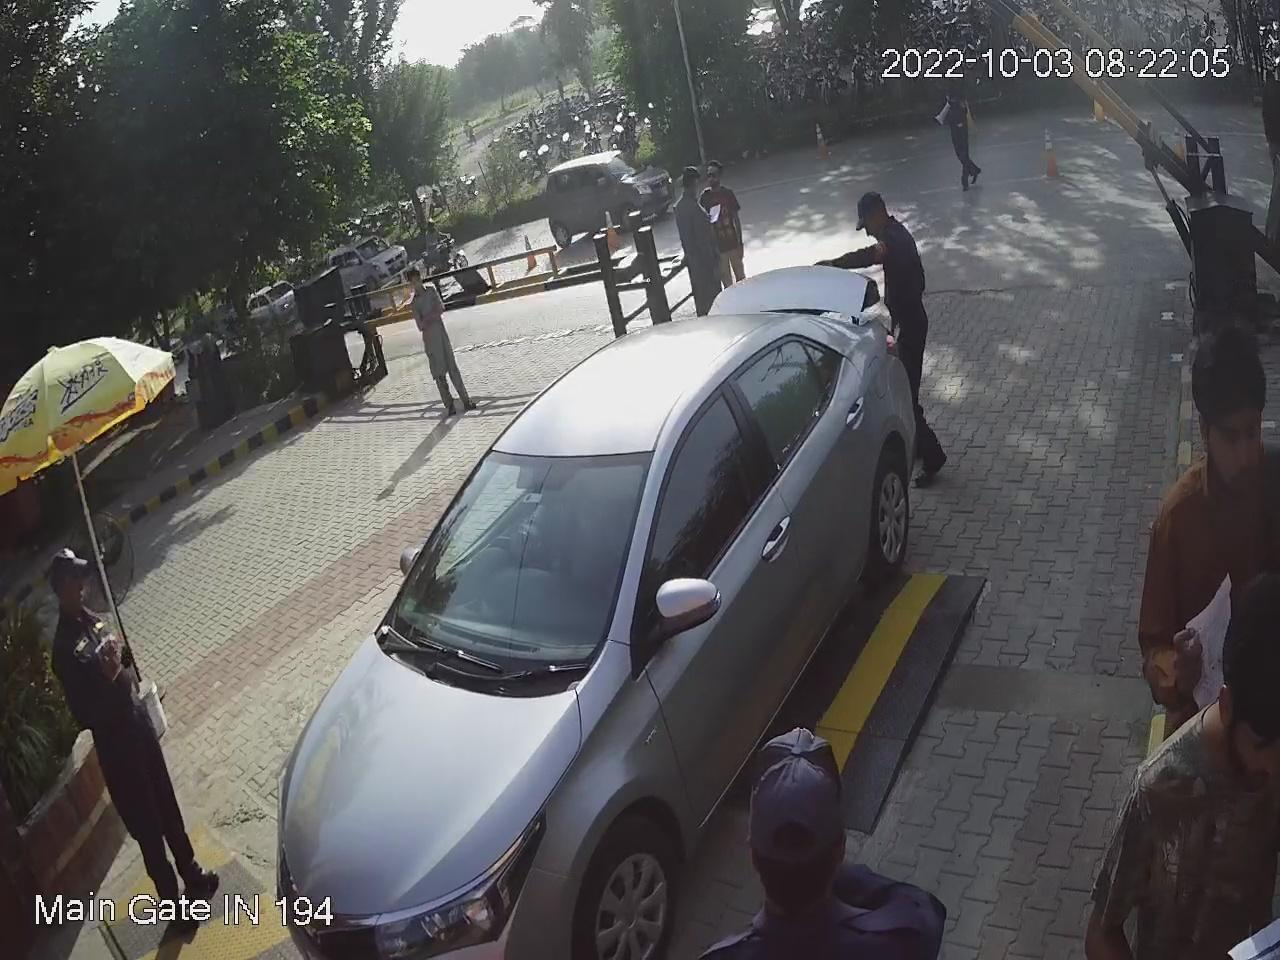windshield: (376, 430, 660, 675)
